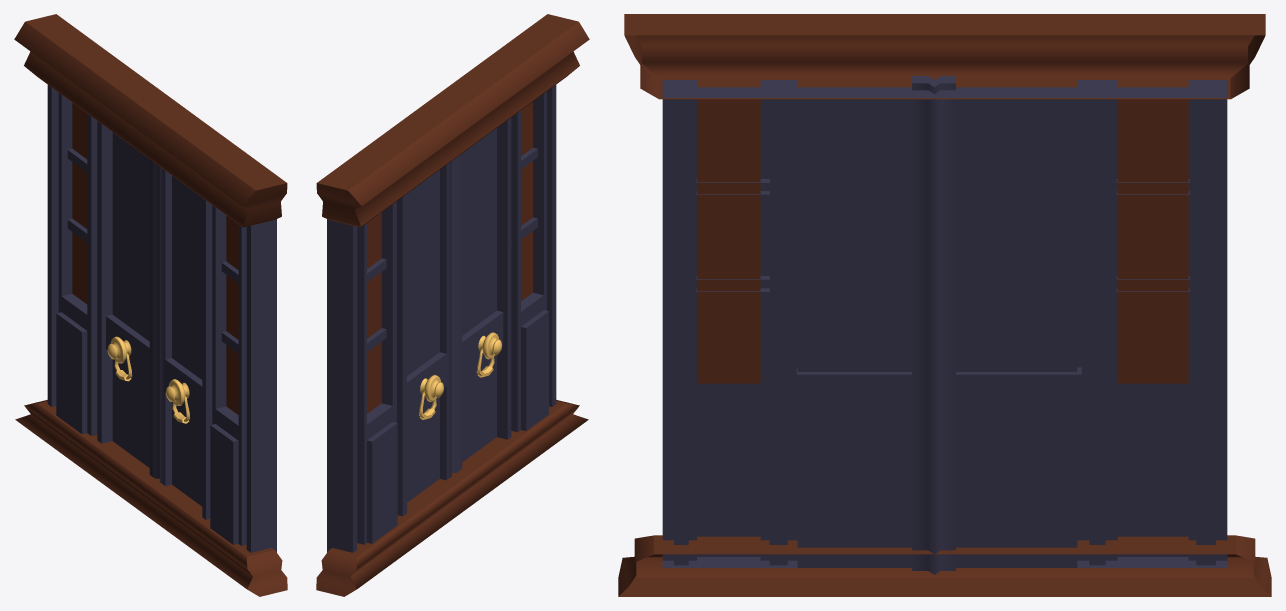
File: SM_Porte.fbx
The picture shows the model from 3 angles, left to right: view 1: azimuth 30°, elevation 25°; view 2: azimuth 150°, elevation 25°; view 3: azimuth 270°, elevation 25°; orthographic projection. The views are drawn at different scales.
Visible parts, largest first — view 1: polySurface62; view 2: polySurface62; view 3: polySurface62.
Part boxes in pixels (x1,y1,x2,y2): polySurface62: [14, 14, 287, 596]; polySurface62: [316, 14, 589, 596]; polySurface62: [618, 14, 1271, 596].
Bounding box in the file's own units: 8.31 × 67.94 × 71.49.
